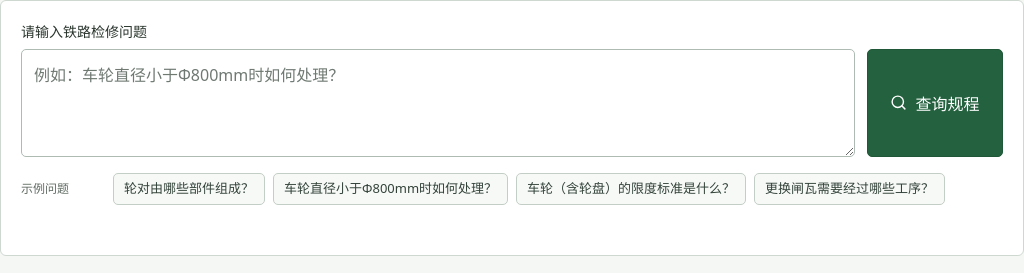
it: QuestionForm › 四个真实中文示例只填入输入框
The image size is (1024, 273).
Click the button "轮对由哪些部件组成？": (189, 189) [113, 173, 265, 205]
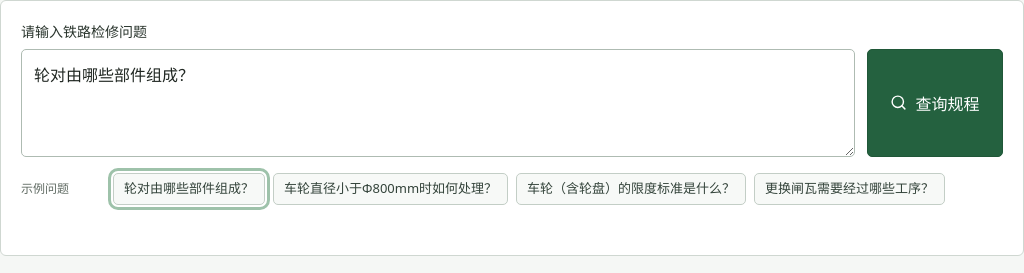
Check: the text box labelled "请输入铁路检修问题" holds "轮对由哪些部件组成？", box [21, 49, 855, 157]
Click the button "车轮直径小于Φ800mm时如何处理？": (391, 189) [273, 173, 508, 205]
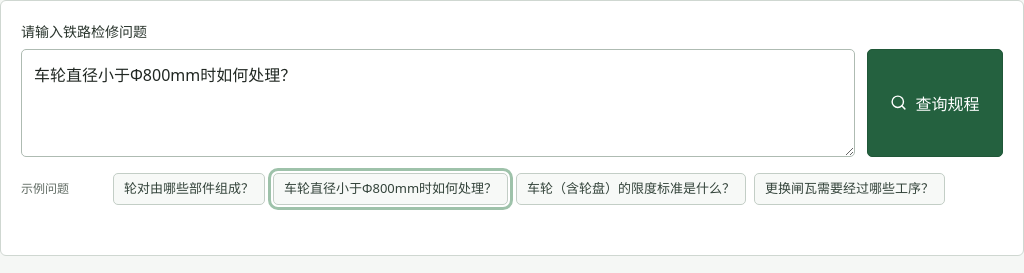
Check: the text box labelled "请输入铁路检修问题" holds "车轮直径小于Φ800mm时如何处理？", box [21, 49, 855, 157]
Click the button "车轮（含轮盘）的限度标准是什么？": (631, 189) [516, 173, 746, 205]
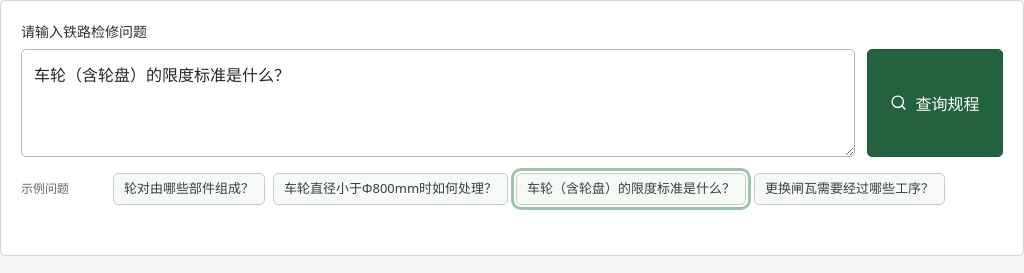
Check: the text box labelled "请输入铁路检修问题" holds "车轮（含轮盘）的限度标准是什么？", box [21, 49, 855, 157]
Click the button "更换闸瓦需要经过哪些工序？": (850, 189) [754, 173, 945, 205]
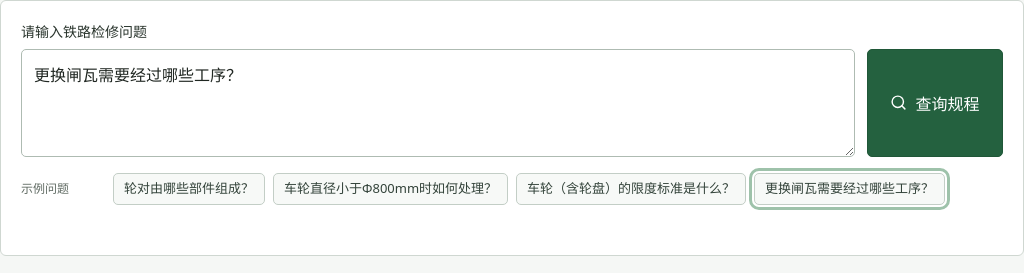
Check: the text box labelled "请输入铁路检修问题" holds "更换闸瓦需要经过哪些工序？", box [21, 49, 855, 157]
